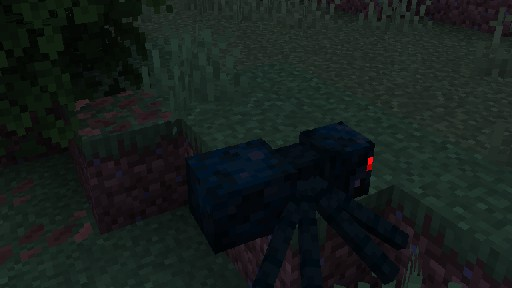cave_spider: (184, 120, 409, 288)
